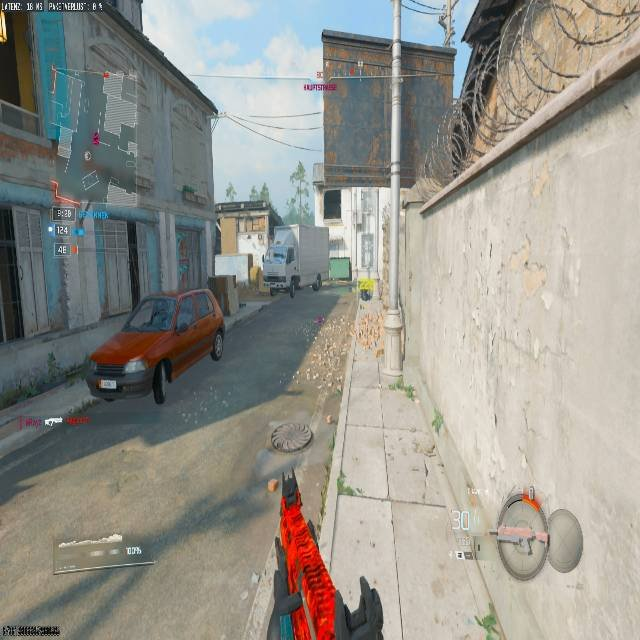player: (288, 274, 300, 299)
